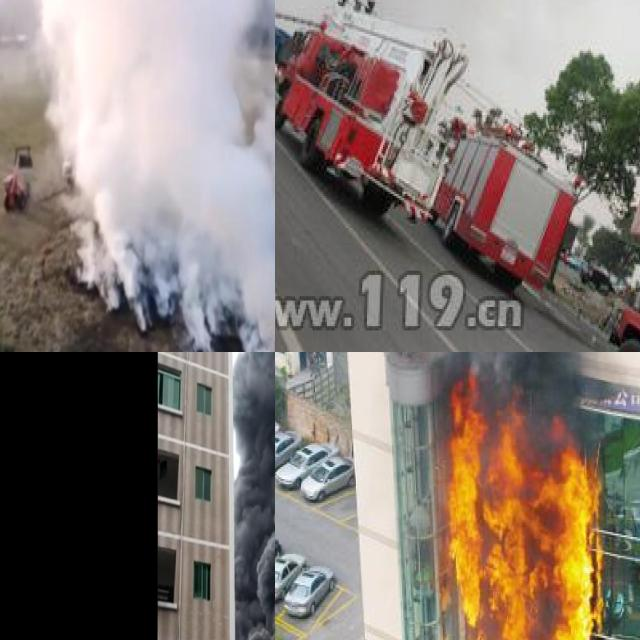fire: (445, 361, 600, 640)
smoke: (43, 0, 275, 352), (231, 352, 275, 640), (435, 352, 588, 409)
